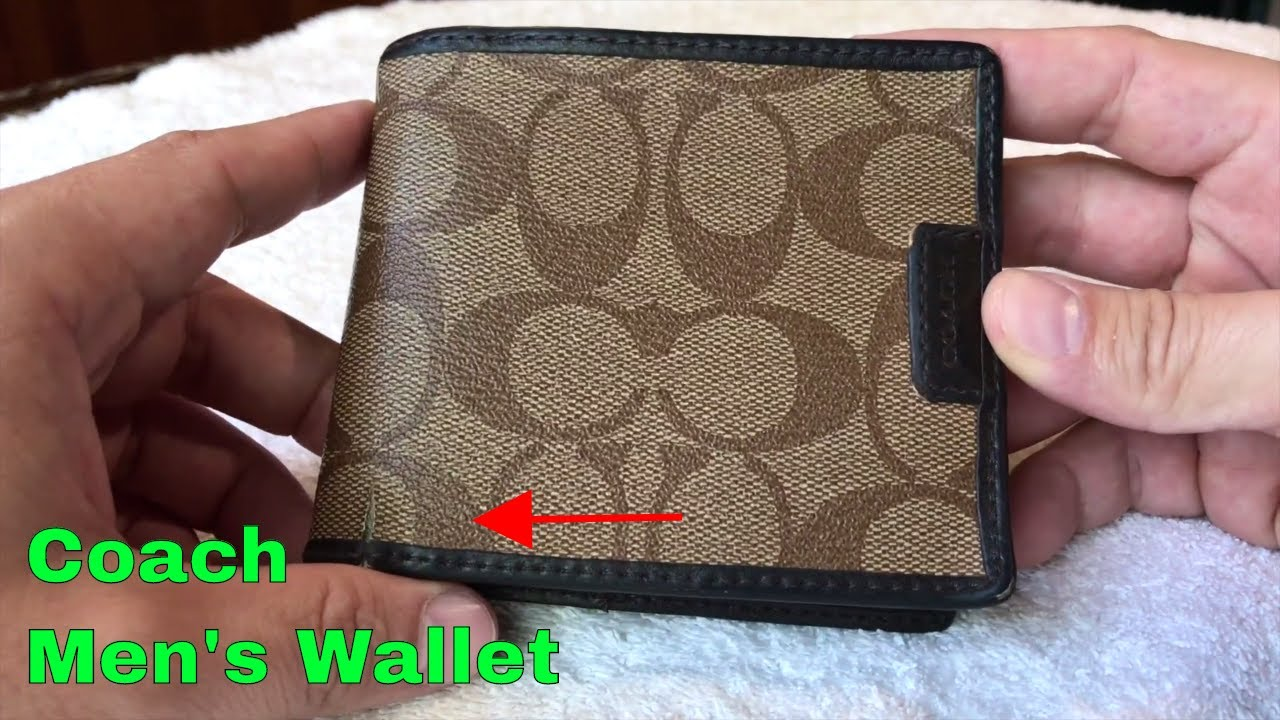monedero: (298, 23, 1021, 640)
